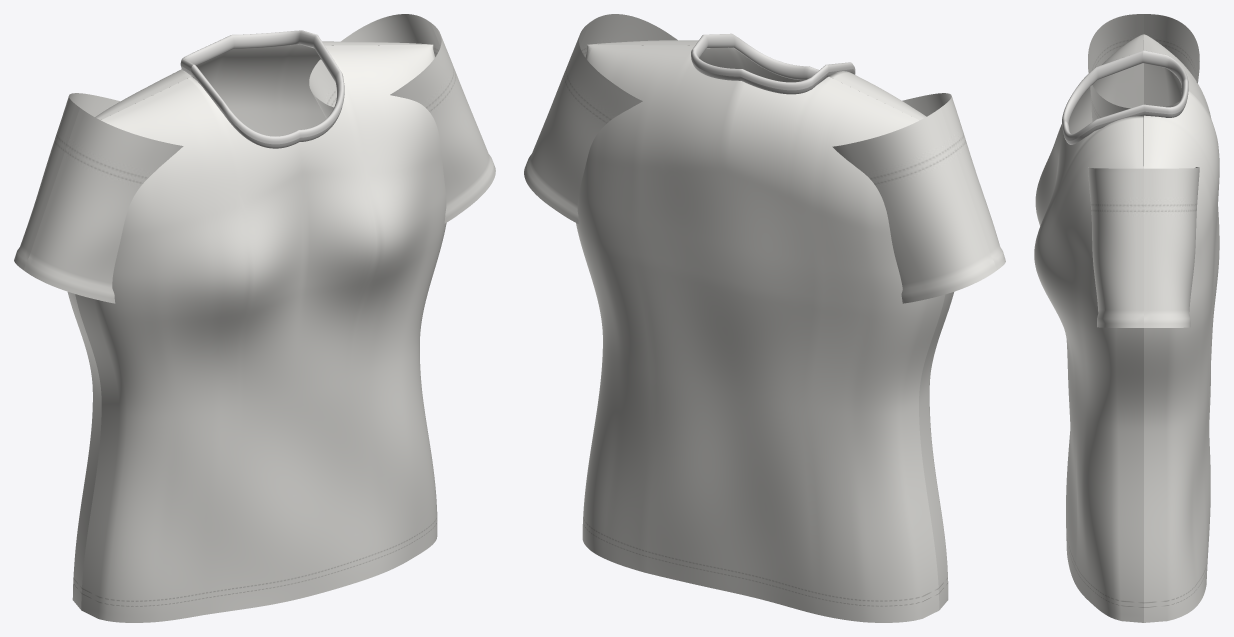
File: tshirt-femme.glb
3 renders of one model, left to right at view 1: azimuth 30°, elevation 25°; view 2: azimuth 150°, elevation 25°; view 3: azimuth 270°, elevation 25°, orthographic. The views are drawn at different scales.
Parts seen in each view (by area): view 1: Devant, Manche_gauche, Dos, Manche_droite, Col; view 2: Dos, Manche_gauche, Manche_droite, Devant, Col; view 3: Devant, Dos, Manche_droite, Manche_gauche, Col.
Part boxes in pixels (left/top/right/bottom): Devant: left=75, top=44, right=446, bottom=622; Manche_gauche: left=14, top=93, right=183, bottom=303; Dos: left=67, top=41, right=430, bottom=609; Manche_droite: left=309, top=14, right=495, bottom=223; Col: left=180, top=30, right=344, bottom=148; Dos: left=576, top=44, right=945, bottom=622; Manche_gauche: left=832, top=93, right=1005, bottom=303; Manche_droite: left=524, top=14, right=677, bottom=223; Devant: left=590, top=40, right=953, bottom=609; Col: left=691, top=33, right=855, bottom=94; Devant: left=1034, top=34, right=1143, bottom=622; Dos: left=1144, top=34, right=1219, bottom=622; Manche_droite: left=1088, top=166, right=1199, bottom=327; Manche_gauche: left=1088, top=14, right=1199, bottom=165; Col: left=1062, top=50, right=1188, bottom=144.
Bounding box in the file's own units: 0.5761 × 0.6156 × 0.2208.
Materials: 4 (4 with a texture image).
